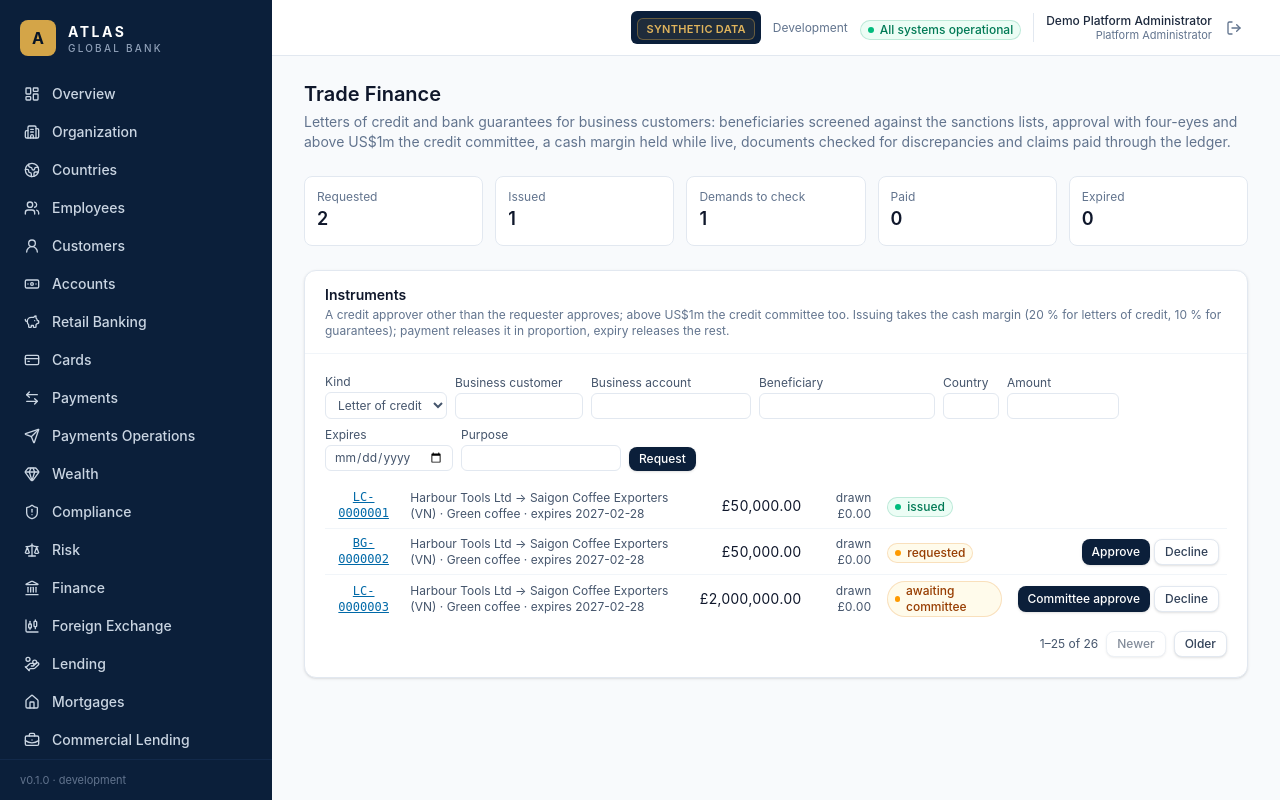
Test case: Trade finance page › pages back to older instruments beyond the first 25 (PR #28 review)
The width and height of the screenshot is (1280, 800).
Expected: the navigation bar named "Instrument pages" shows "1–25 of 26", x1=1040 y1=631 x2=1227 y2=657
Expected: the button "Newer" is disabled, x1=1106 y1=631 x2=1166 y2=657
Click the button "Older".
click(1200, 644)  # box x1=1174 y1=631 x2=1227 y2=657
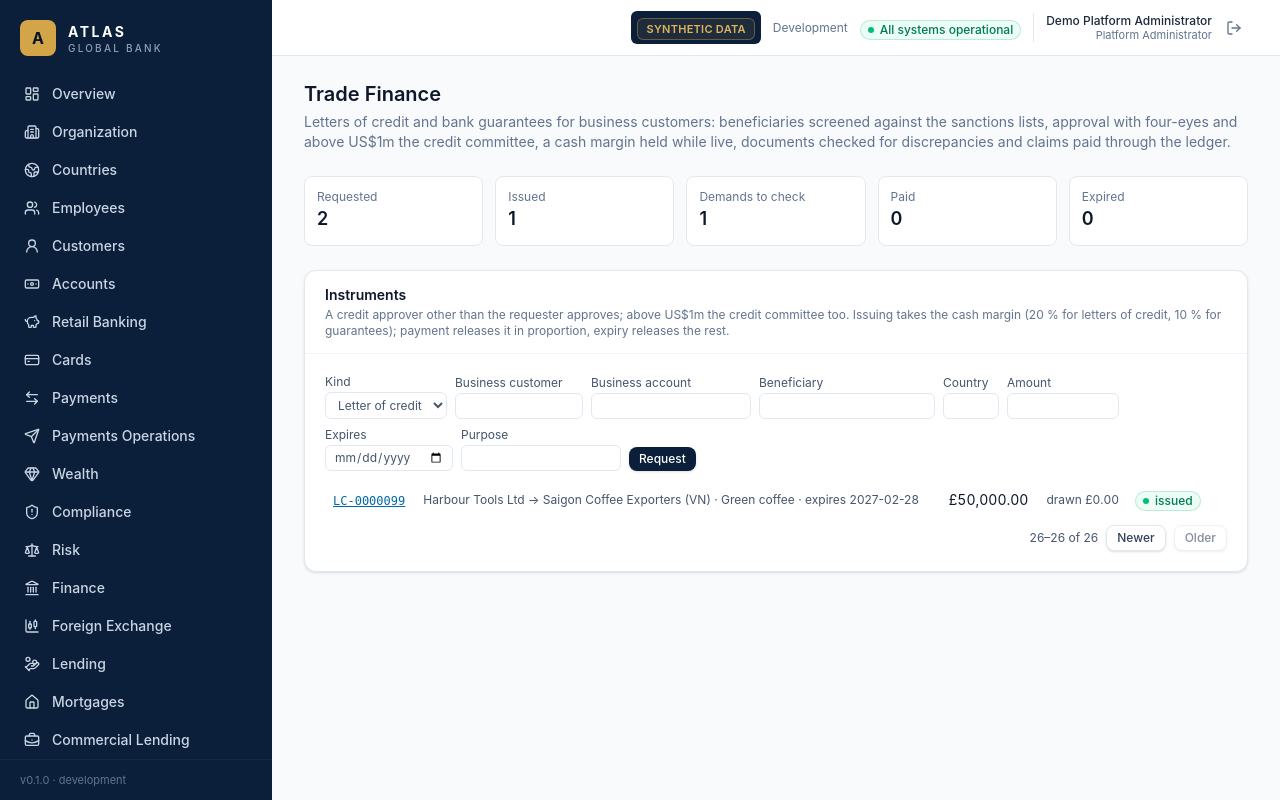
Now the button with aria-label "Select LC-0000099" is shown, box x1=333 y1=493 x2=405 y2=509
Now the navigation bar named "Instrument pages" shows "26–26 of 26", box x1=1030 y1=525 x2=1227 y2=551
